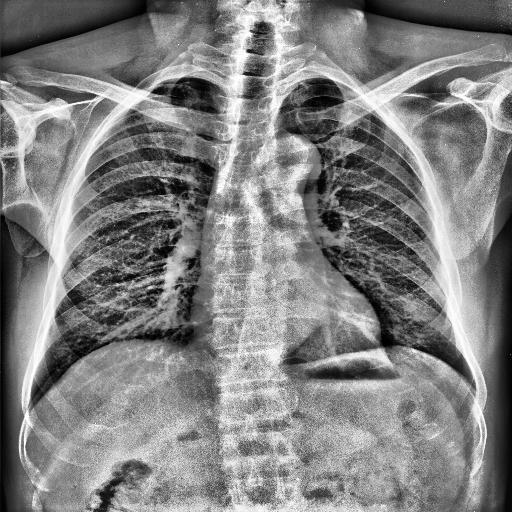0- Aortic enlargement: (261, 133, 322, 205), (260, 134, 319, 192), (275, 134, 319, 176)
